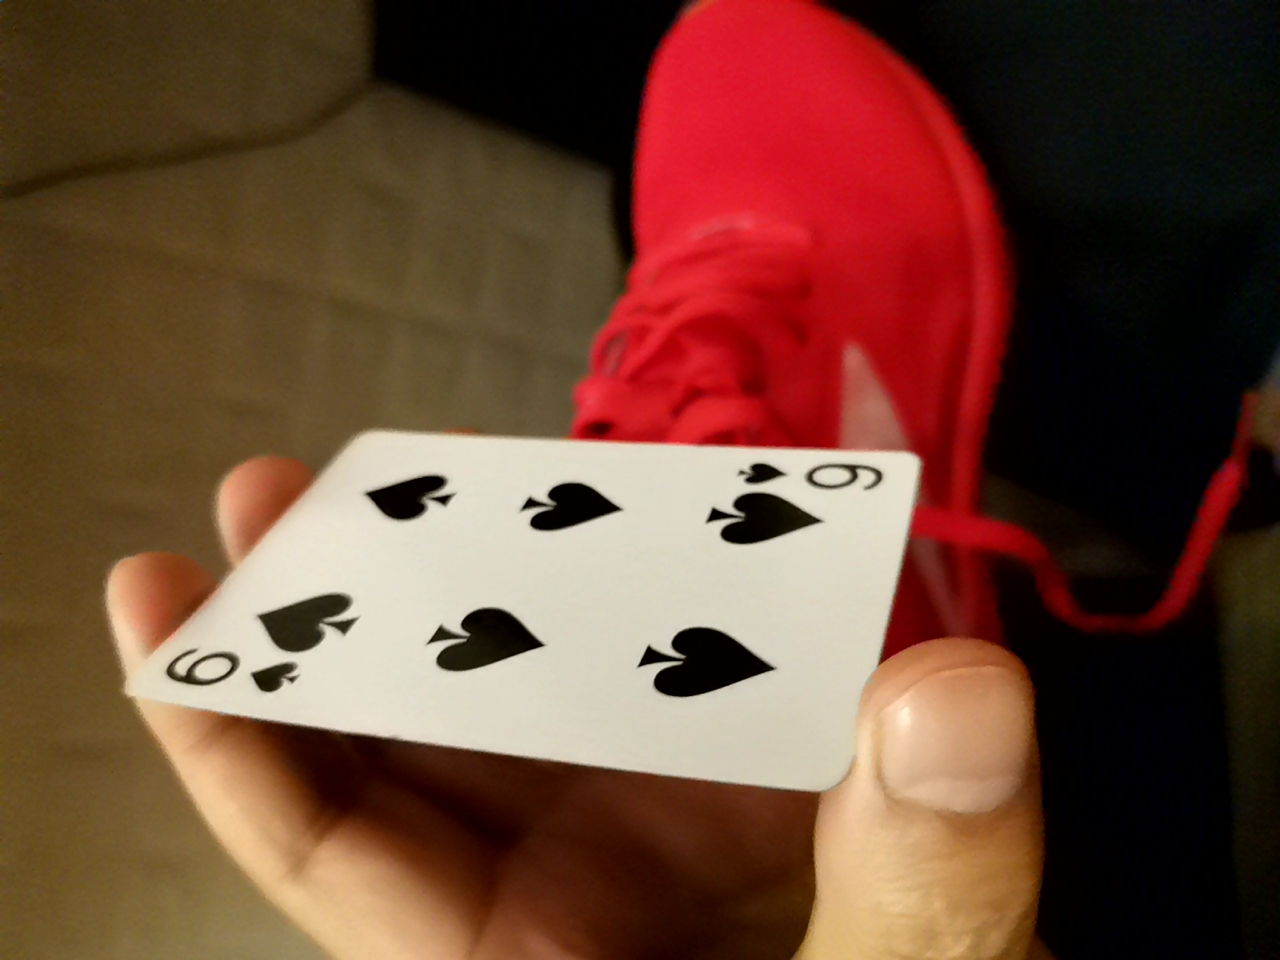ht 6: (94, 404, 898, 849)
